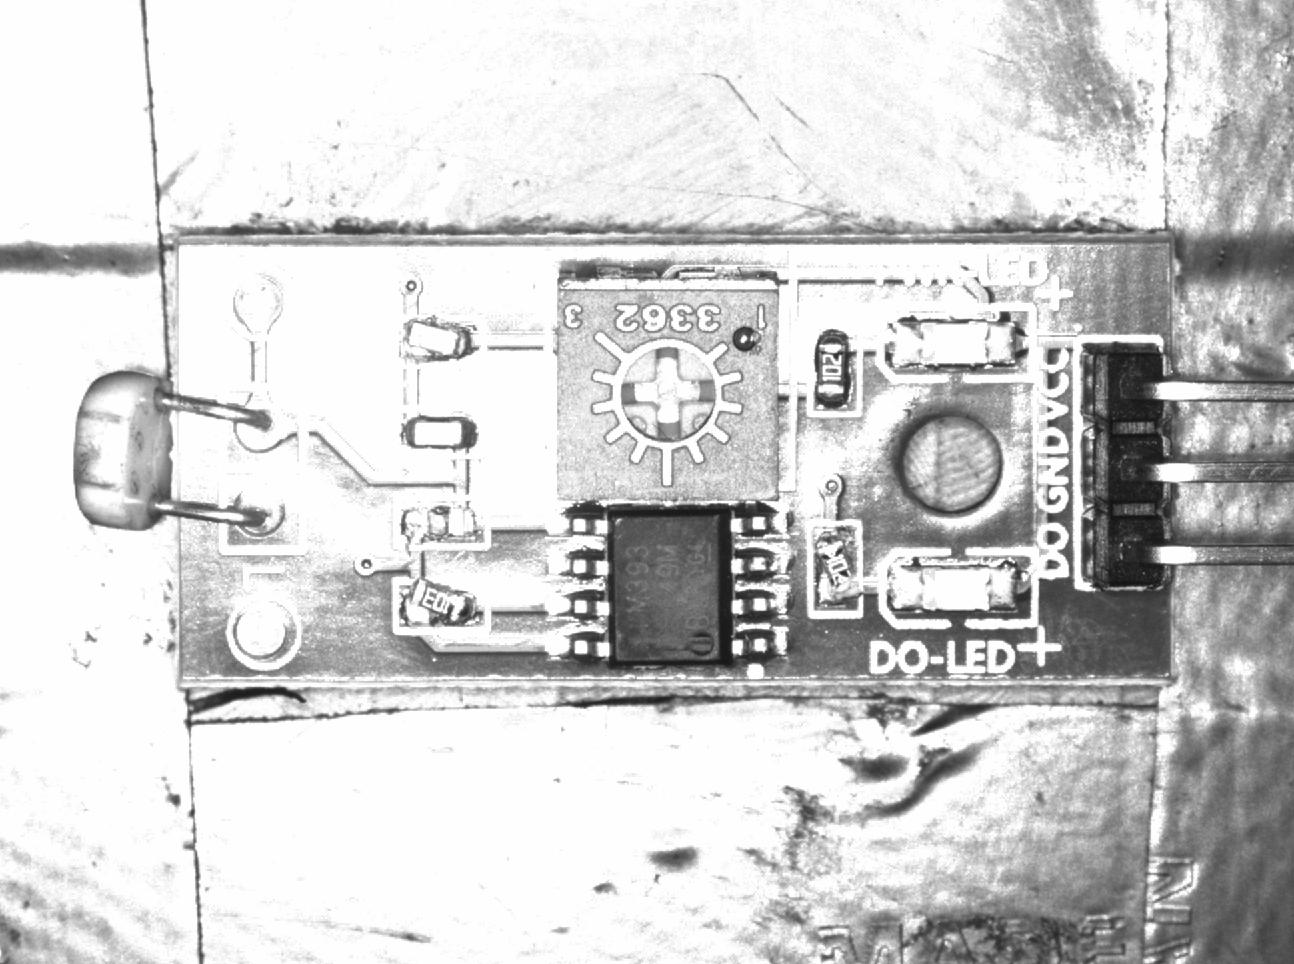lifted: (396, 576, 490, 634), (394, 315, 482, 365)
miss: (807, 523, 863, 617), (395, 497, 486, 548)
ok: (806, 315, 860, 414), (391, 411, 487, 459)
